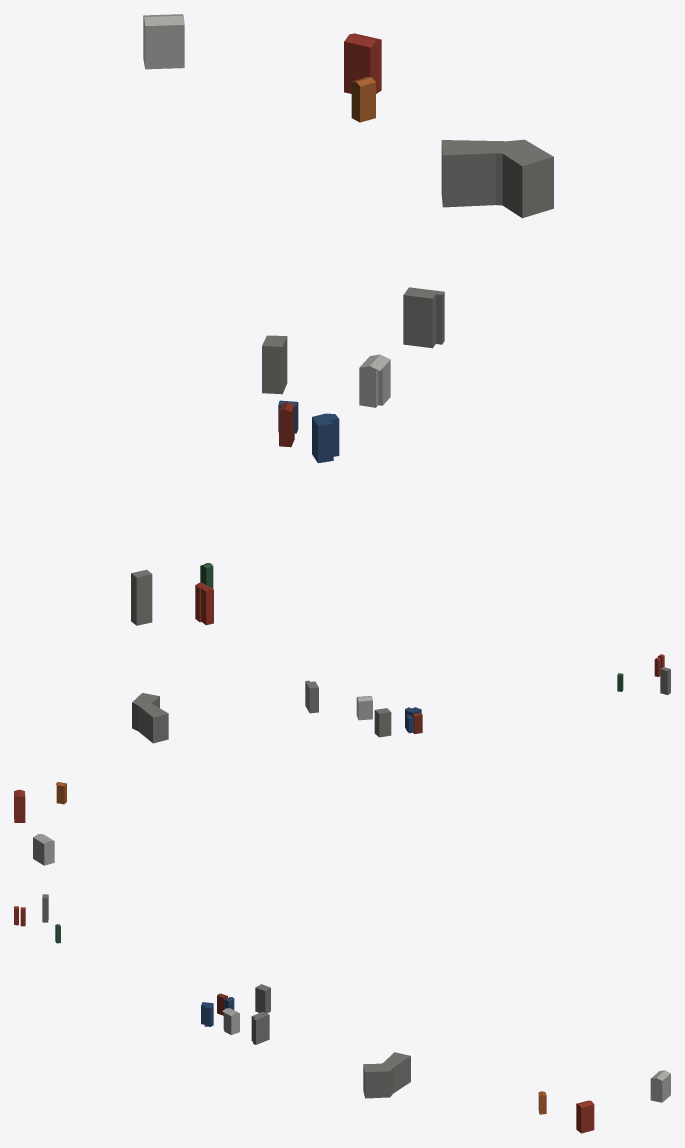
Rendered from near-15-27369-14860.07a9e4c0.glb.
3 renders of one model, top to bottom at view 1: azimuth 30°, elevation 25°; view 2: azimuth 150°, elevation 25°; view 3: azimuth 270°, elevation 25°, orthographic. The views are drawn at different scales.
Bounding box in the file's own units: 391 × 48.39 × 567.
